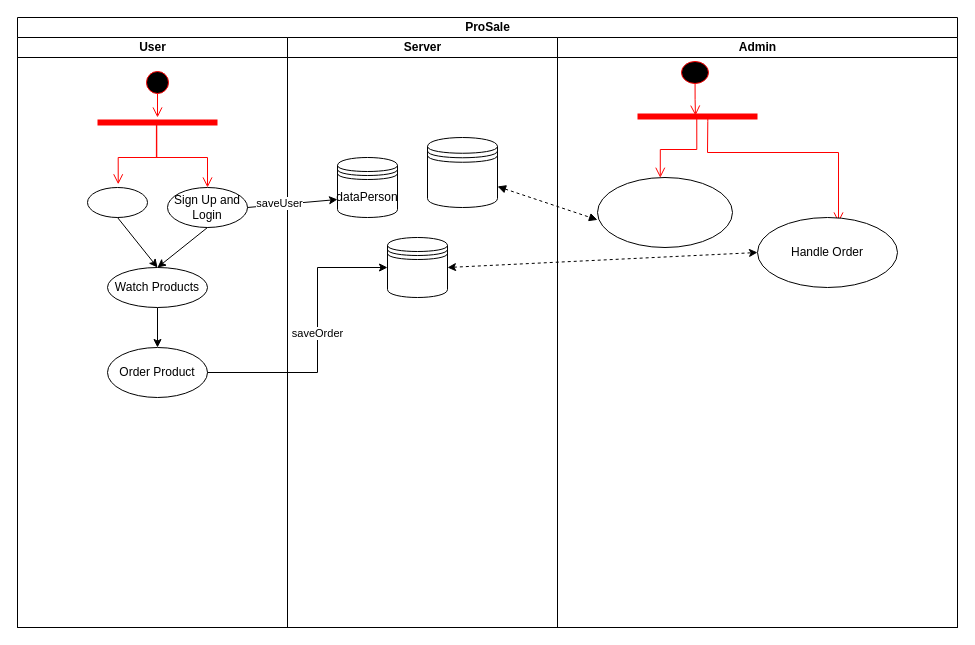
Image size: 975x645. Some labels were removed from this diagram. Here are the shapes that lost their labels. From the top down, the centre of each, then its label:
the point at 462,172: dataProduct
the point at 117,202: Login
the point at 664,212: Add, delete, edit Products
the point at 417,267: DataOrder
